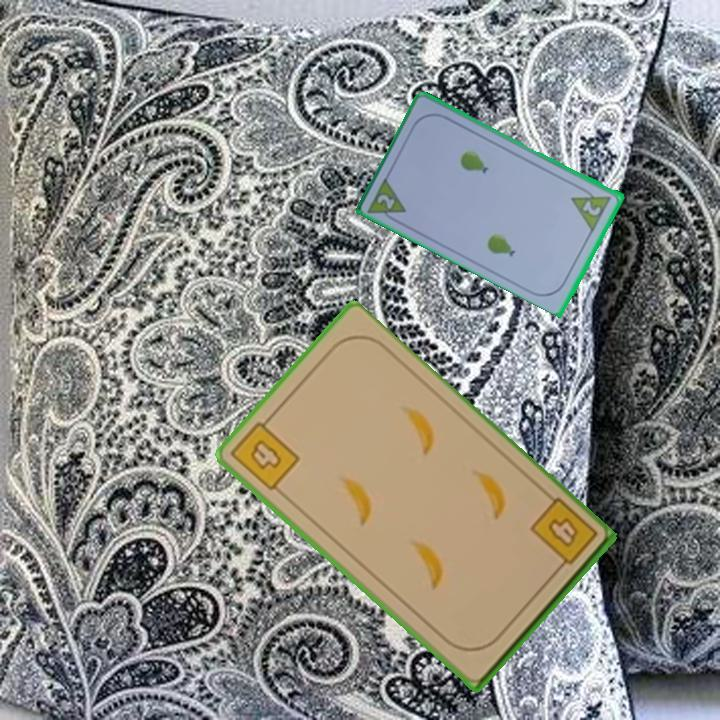2p: (365, 173, 410, 227), (568, 182, 615, 233)
4b: (227, 412, 303, 494), (526, 494, 601, 577)
